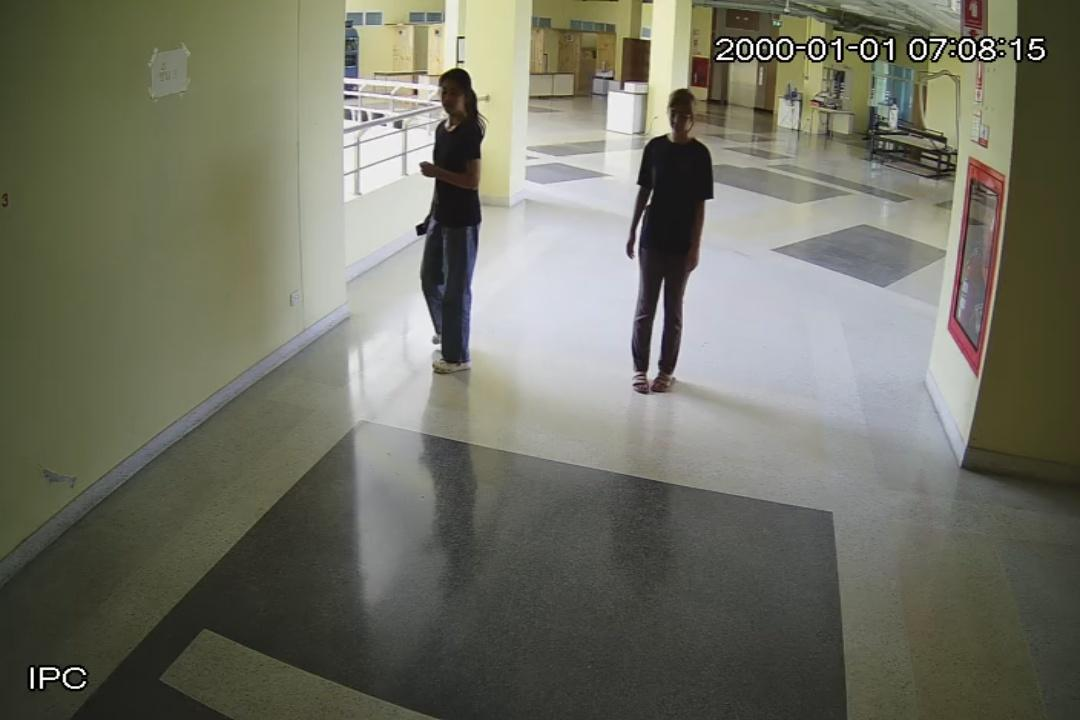normal: (624, 92, 717, 389), (415, 69, 487, 373)
